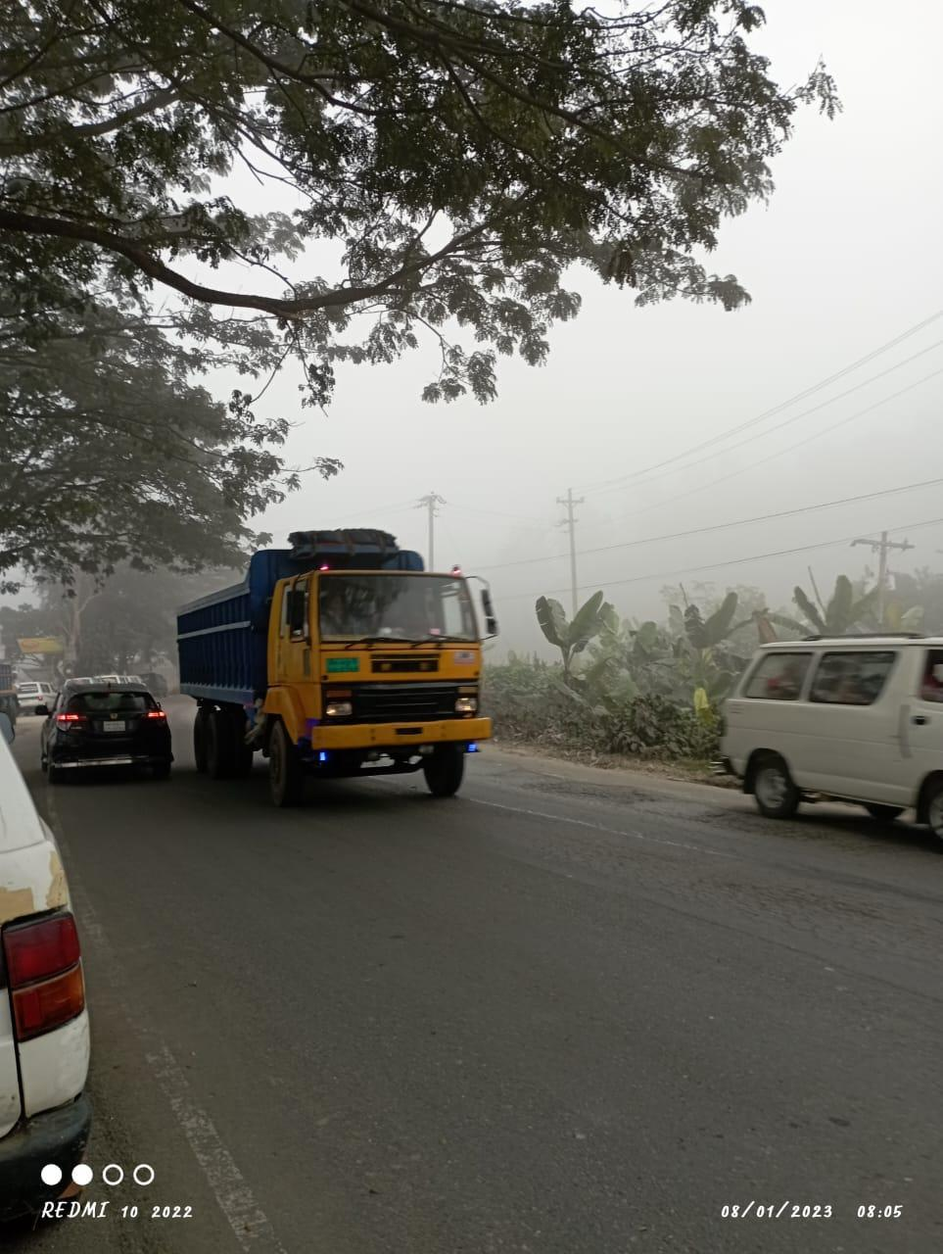Car: (705, 628, 943, 838), (35, 670, 185, 788)
Truck: (169, 520, 502, 804)
